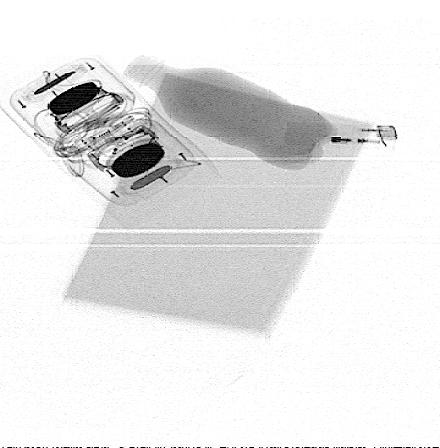Lighter: (285, 121, 398, 150)
